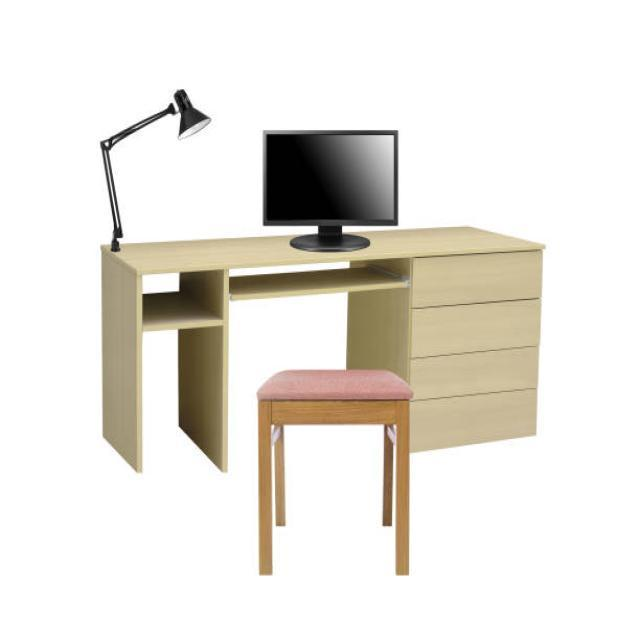table: (100, 224, 544, 476)
